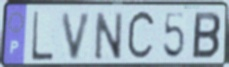5: (160, 11, 186, 61)
B: (190, 11, 223, 61)
C: (126, 8, 158, 64)
L: (30, 10, 55, 64)
N: (94, 10, 125, 62)
V: (60, 10, 94, 62)
